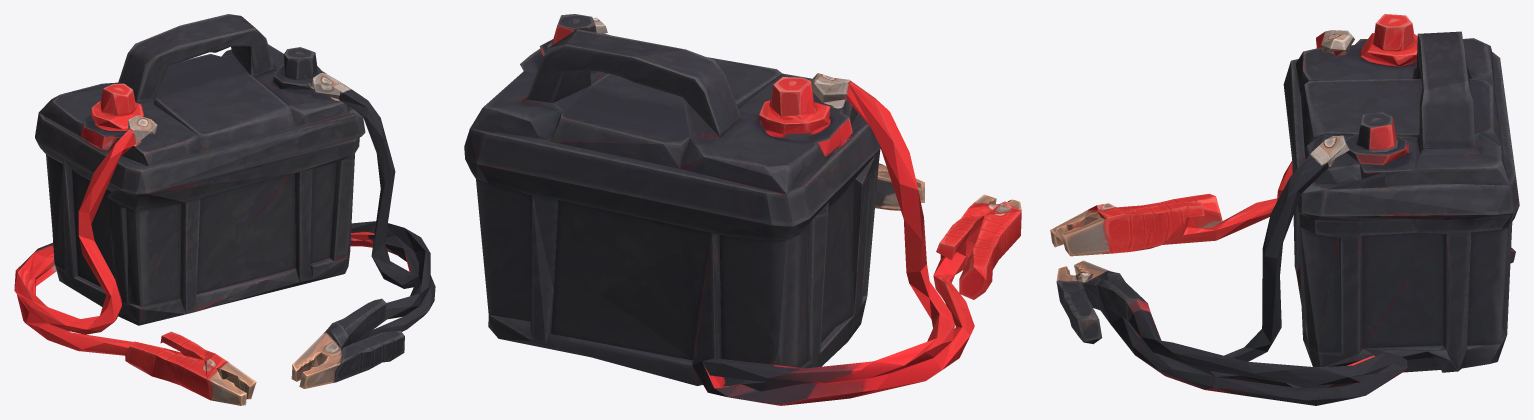
Rendered from battery.glb.
3 renders of one model, left to right at view 1: azimuth 30°, elevation 25°; view 2: azimuth 150°, elevation 25°; view 3: azimuth 270°, elevation 25°, orthographic. The views are drawn at different scales.
Bounding box in the file's own units: 0.5057 × 0.3 × 0.4875.
1 material, 1 textured.
